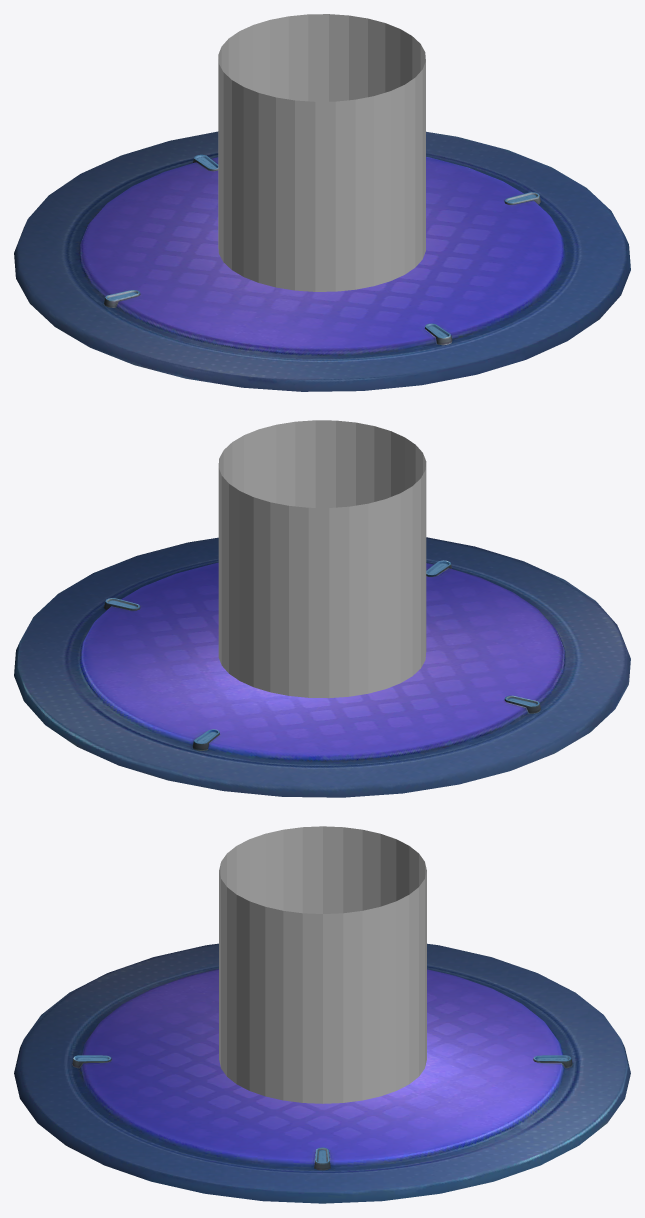
Rendered from pref_TPC_v2_WSJ_NeutralScoreArea03_purple_born_lv1.fbx.
3 renders of one model, top to bottom at view 1: azimuth 30°, elevation 25°; view 2: azimuth 150°, elevation 25°; view 3: azimuth 270°, elevation 25°, orthographic.
Parts seen in each view (by area): view 1: sm_prop_platform06a_lv1, sm_fx_scorearea03_mesh_01_gp (1); view 2: sm_prop_platform06a_lv1, sm_fx_scorearea03_mesh_01_gp (1); view 3: sm_prop_platform06a_lv1, sm_fx_scorearea03_mesh_01_gp (1).
Boxes of the visible parts, left/top/right/bottom form: sm_prop_platform06a_lv1: left=14, top=131, right=630, bottom=391; sm_fx_scorearea03_mesh_01_gp (1): left=218, top=14, right=425, bottom=291; sm_prop_platform06a_lv1: left=14, top=537, right=630, bottom=797; sm_fx_scorearea03_mesh_01_gp (1): left=218, top=420, right=426, bottom=698; sm_prop_platform06a_lv1: left=14, top=943, right=630, bottom=1203; sm_fx_scorearea03_mesh_01_gp (1): left=219, top=826, right=426, bottom=1103.
Size of the model in its own units: 7.46 by 3.07 by 7.46.
